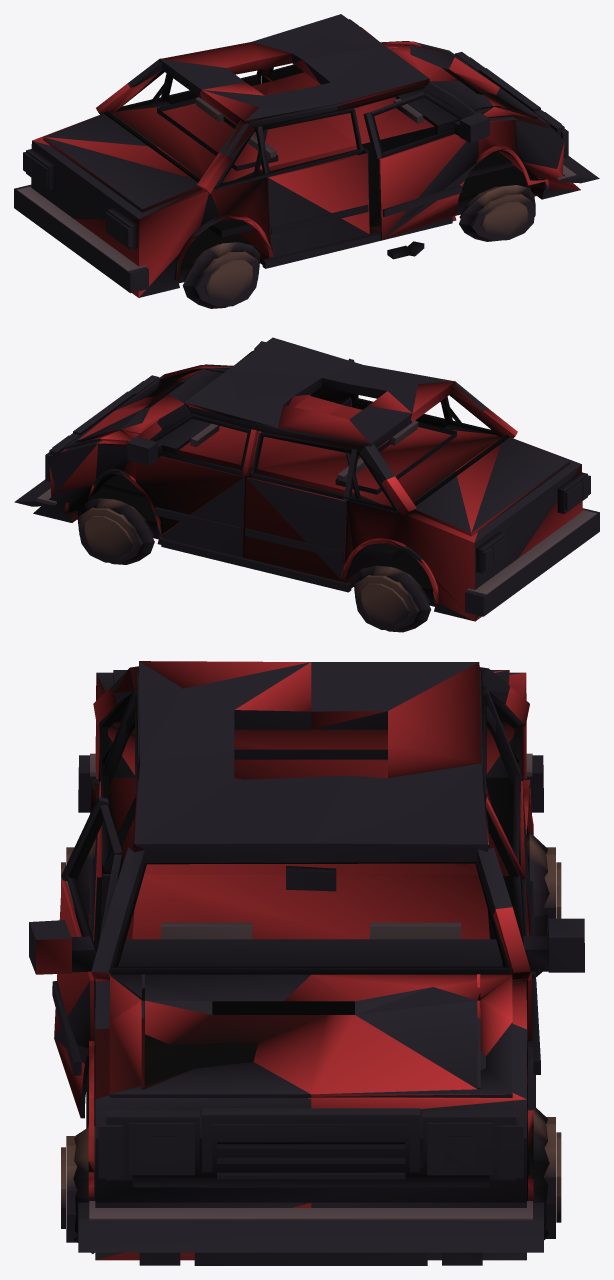
The model's file is model.burned.lod1.glb.
3 views of the same model, one above another, from view 1: azimuth 30°, elevation 25°; view 2: azimuth 150°, elevation 25°; view 3: azimuth 270°, elevation 25° (orthographic). The views are drawn at different scales.
Visible parts, largest first — view 1: body_pal_uiDark, body_pal_survivorRed, wheelRL_pal_sidewalk, wheelFL_pal_sidewalk, body_pal_sidewalk; view 2: body_pal_uiDark, body_pal_survivorRed, wheelRR_pal_sidewalk, wheelFR_pal_sidewalk, body_pal_sidewalk; view 3: body_pal_uiDark, body_pal_survivorRed, body_pal_sidewalk, wheelFR_pal_sidewalk, wheelFL_pal_sidewalk, wheelRR_pal_sidewalk, wheelRL_pal_sidewalk.
Part boxes in pixels (x1,y1,x2,y2): body_pal_uiDark: [14, 14, 599, 297]; body_pal_survivorRed: [32, 28, 580, 297]; wheelRL_pal_sidewalk: [182, 242, 260, 308]; wheelFL_pal_sidewalk: [459, 185, 535, 241]; body_pal_sidewalk: [17, 97, 576, 271]; body_pal_uiDark: [14, 337, 599, 620]; body_pal_survivorRed: [49, 365, 582, 621]; wheelRR_pal_sidewalk: [353, 565, 431, 632]; wheelFR_pal_sidewalk: [77, 498, 154, 564]; body_pal_sidewalk: [37, 420, 596, 594]; body_pal_uiDark: [29, 661, 584, 1265]; body_pal_survivorRed: [36, 661, 533, 1260]; body_pal_sidewalk: [89, 753, 532, 1220]; wheelFR_pal_sidewalk: [527, 1103, 561, 1239]; wheelFL_pal_sidewalk: [61, 1125, 95, 1253]; wheelRR_pal_sidewalk: [526, 832, 561, 976]; wheelRL_pal_sidewalk: [61, 838, 95, 936].
Size of the model in its own units: 4.52 by 1.57 by 2.32.
